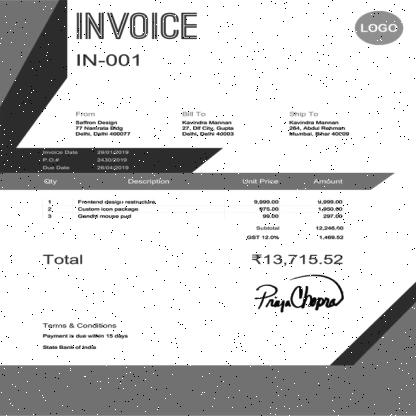Paragraph: (74, 12, 200, 67), (39, 248, 347, 268), (40, 318, 132, 352), (41, 149, 131, 171), (286, 110, 352, 138), (73, 110, 132, 138), (180, 110, 236, 138)
Table: (41, 173, 348, 243)
